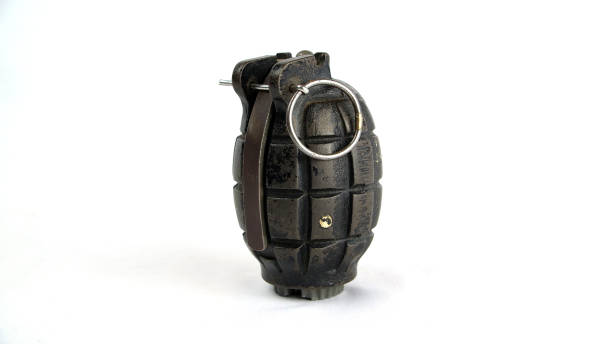e1: (216, 49, 385, 303)
